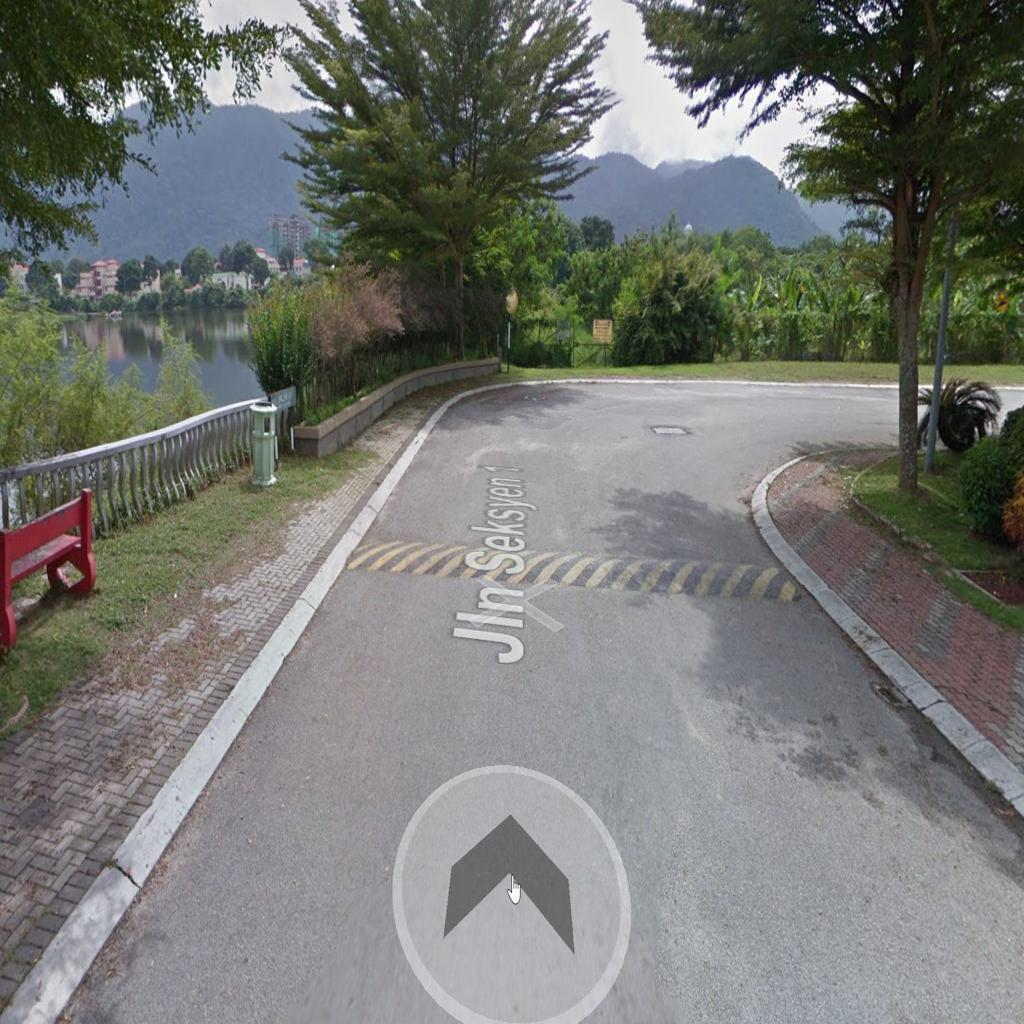Junction: (775, 362, 1024, 487)
